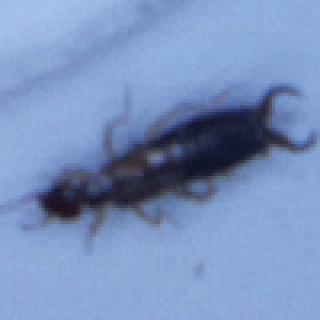earwig: (0, 80, 320, 256)
